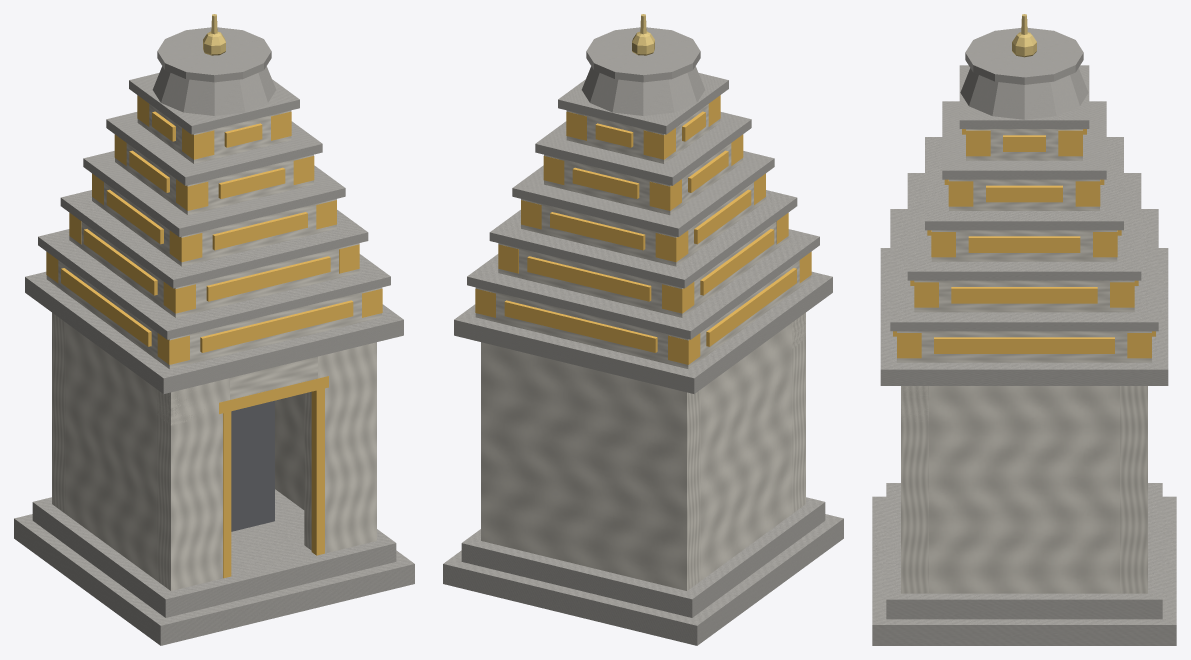
The model's file is indian-bazaar-street-and-temple-street-shrine-with-tow-bfd51560__36535.glb.
3 views of the same model, side by side, from view 1: azimuth 30°, elevation 25°; view 2: azimuth 150°, elevation 25°; view 3: azimuth 270°, elevation 25° (orthographic). The views are drawn at different scales.
Parts seen in each view (by area): view 1: street-shrine-with-tower-stone, street-shrine-with-tower-plaster, street-shrine-with-tower-saffron, street-shrine-with-tower-charcoal, street-shrine-with-tower-brass; view 2: street-shrine-with-tower-plaster, street-shrine-with-tower-stone, street-shrine-with-tower-saffron, street-shrine-with-tower-brass; view 3: street-shrine-with-tower-stone, street-shrine-with-tower-plaster, street-shrine-with-tower-saffron, street-shrine-with-tower-brass.
Boxes of the visible parts, box(x1,y1,x2,y2) form: street-shrine-with-tower-stone: box(14, 27, 414, 645); street-shrine-with-tower-plaster: box(46, 104, 382, 590); street-shrine-with-tower-saffron: box(46, 95, 382, 578); street-shrine-with-tower-charcoal: box(231, 400, 274, 531); street-shrine-with-tower-brass: box(203, 14, 225, 55); street-shrine-with-tower-plaster: box(475, 104, 811, 590); street-shrine-with-tower-stone: box(443, 27, 843, 645); street-shrine-with-tower-saffron: box(475, 95, 811, 364); street-shrine-with-tower-brass: box(632, 14, 654, 55); street-shrine-with-tower-stone: box(872, 28, 1176, 645); street-shrine-with-tower-plaster: box(897, 129, 1151, 593); street-shrine-with-tower-saffron: box(893, 129, 1155, 358); street-shrine-with-tower-brass: box(1012, 14, 1036, 57).
Bounding box in the file's own units: 3.7 × 7.6 × 3.7.
Materials: 5 (2 with a texture image).
